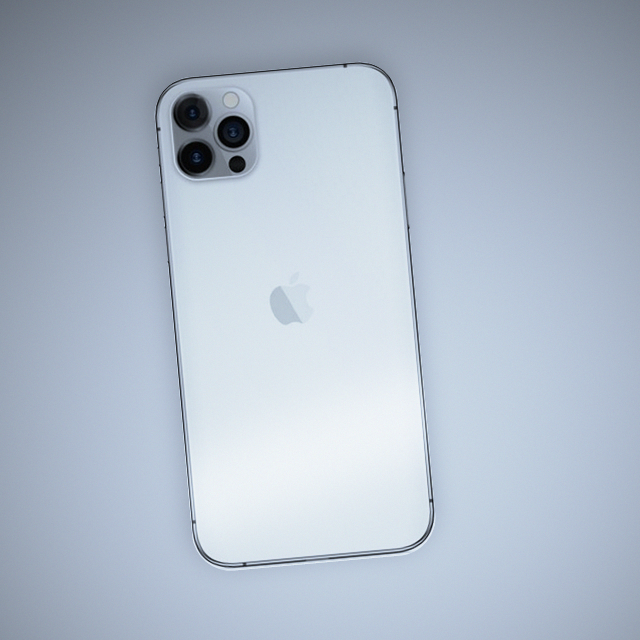iphone_12pro_silver: (137, 40, 487, 592), (158, 79, 266, 180)
